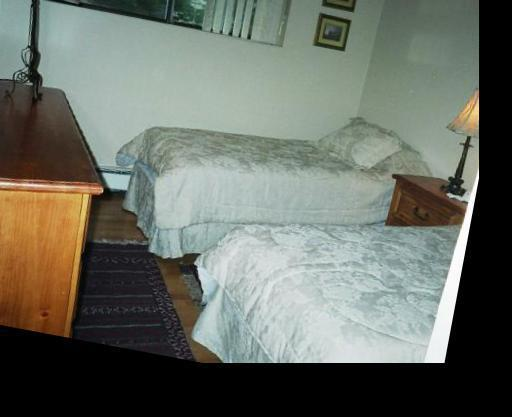Armario: (0, 74, 121, 337)
